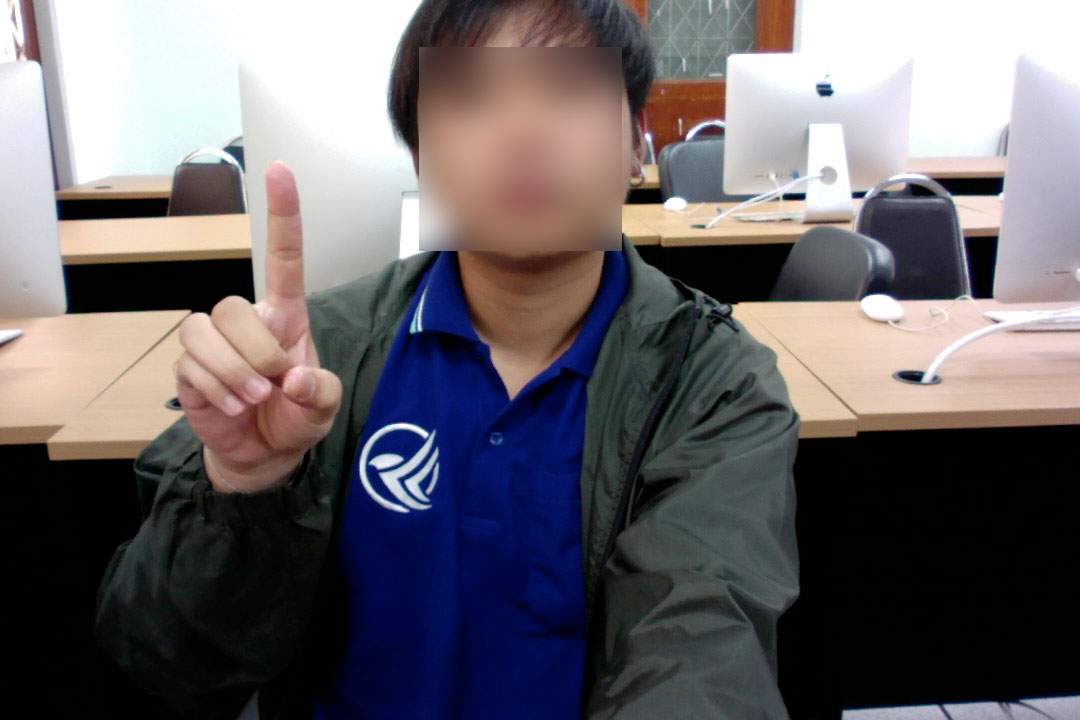dor: (159, 156, 347, 477)
